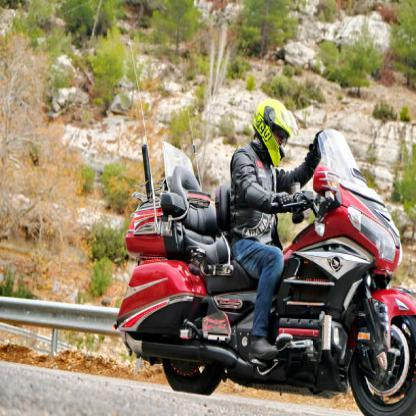Motorcycle: (122, 123, 415, 415)
